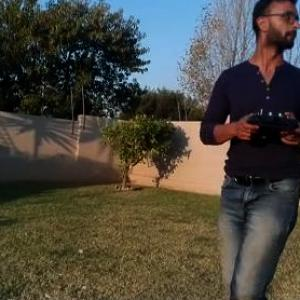follow: (194, 0, 299, 299)
